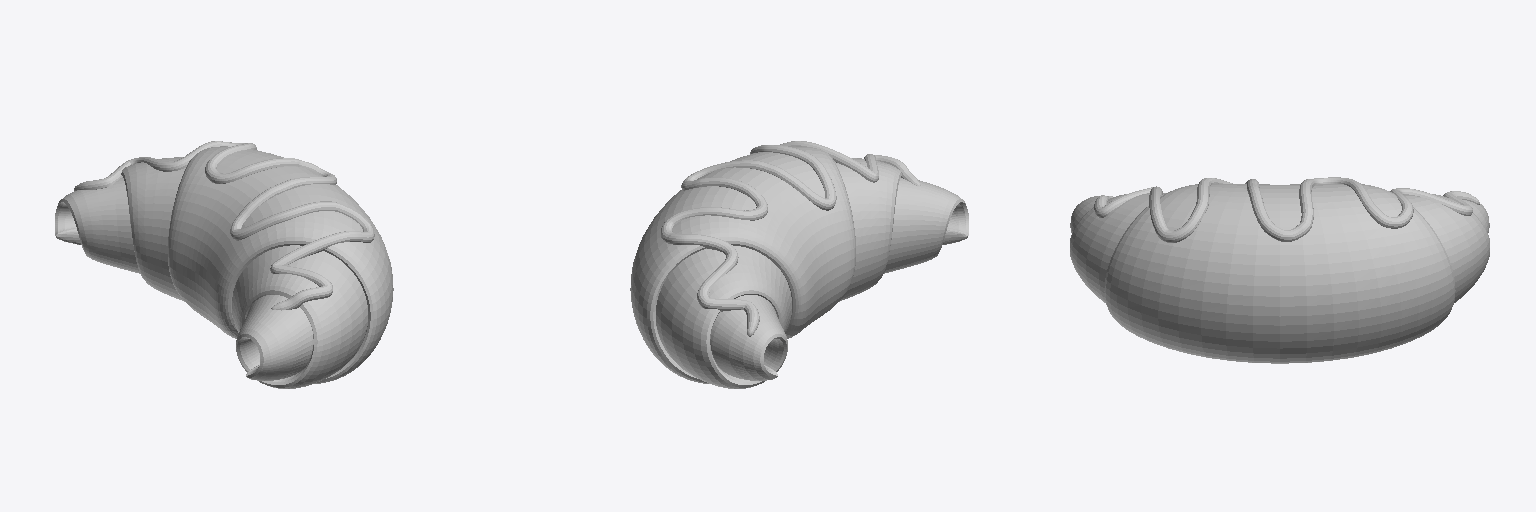
The model's file is croissant.obj.
3 views of the same model, side by side, from view 1: azimuth 30°, elevation 25°; view 2: azimuth 150°, elevation 25°; view 3: azimuth 270°, elevation 25° (orthographic).
Visible parts, largest first — view 1: Plane, BezierCurve; view 2: Plane, BezierCurve; view 3: Plane, BezierCurve.
Boxes of the visible parts, box(x1,y1,x2,y2) form: Plane: box(55, 146, 393, 388); BezierCurve: box(74, 141, 374, 310); Plane: box(630, 146, 968, 388); BezierCurve: box(661, 141, 920, 336); Plane: box(1070, 183, 1489, 363); BezierCurve: box(1094, 177, 1479, 242).
Size of the model in its own units: 0.7093 by 0.5157 by 1.23.